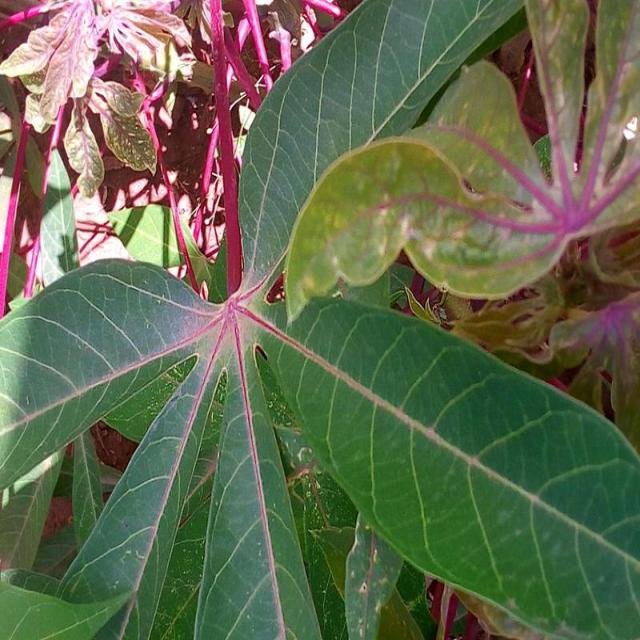cassava leaf: (2, 0, 640, 638), (259, 293, 640, 638), (237, 0, 528, 292)
